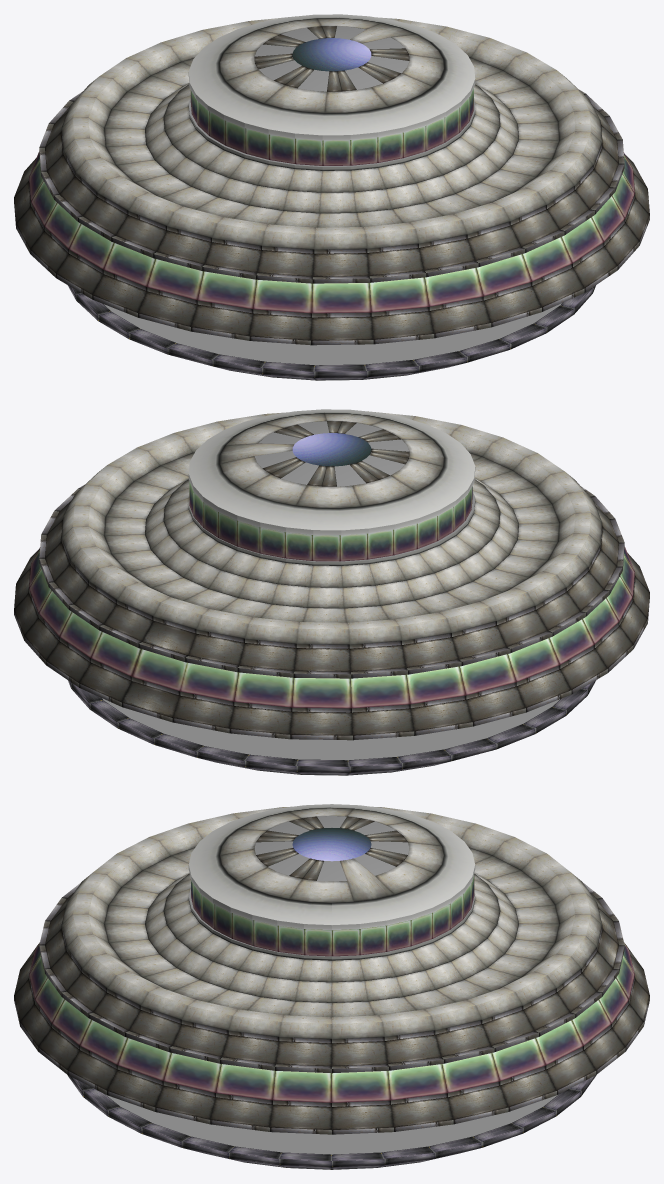
Rendered from station.dae.
3 views of the same model, one above another, from view 1: azimuth 30°, elevation 25°; view 2: azimuth 150°, elevation 25°; view 3: azimuth 270°, elevation 25° (orthographic).
Visible parts, largest first — view 1: Sphere001, Object015; view 2: Sphere001, Object015; view 3: Sphere001, Object015.
Boxes of the visible parts, <box> form: Sphere001: <box>14,14,649,380</box>; Object015: <box>29,88,634,313</box>; Sphere001: <box>14,409,649,775</box>; Object015: <box>29,481,634,708</box>; Sphere001: <box>14,804,649,1169</box>; Object015: <box>29,874,634,1102</box>.
Size of the model in its own units: 147 by 66.73 by 147.
